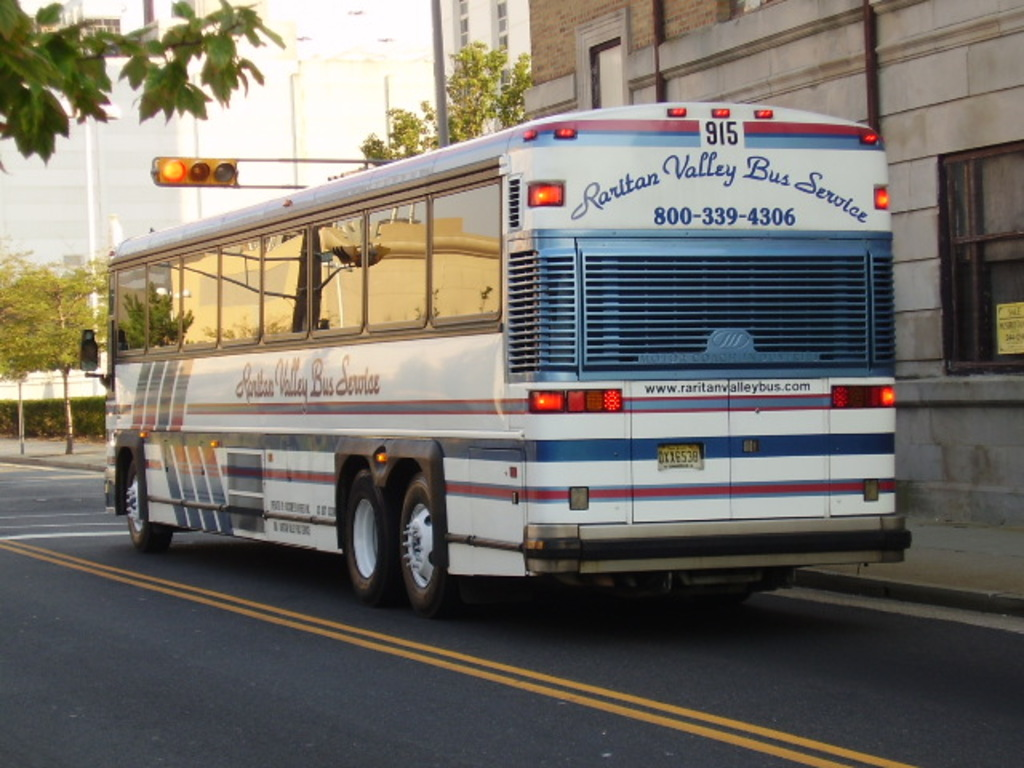Bus: (76, 100, 912, 614)
